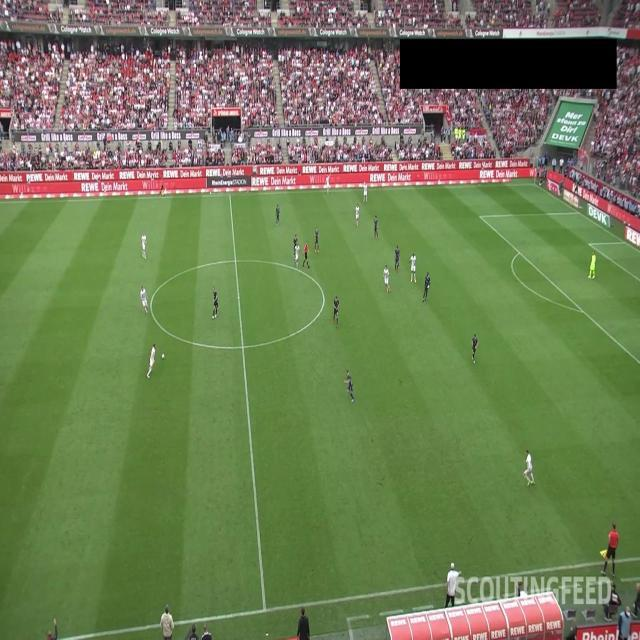arbitro: (303, 242, 309, 260)
football: (162, 354, 166, 360)
goleiro: (587, 252, 597, 280)
jogador: (519, 448, 535, 484), (146, 344, 158, 378), (344, 374, 356, 404), (139, 286, 149, 314), (212, 290, 220, 318), (382, 265, 390, 292), (140, 233, 148, 258), (422, 274, 430, 299), (333, 296, 341, 320), (372, 216, 380, 238), (394, 246, 401, 268), (313, 230, 320, 252), (471, 334, 478, 356), (344, 368, 352, 387), (409, 254, 417, 272), (294, 242, 300, 265), (354, 205, 360, 227), (292, 235, 299, 253), (362, 184, 368, 203), (275, 204, 280, 224)
